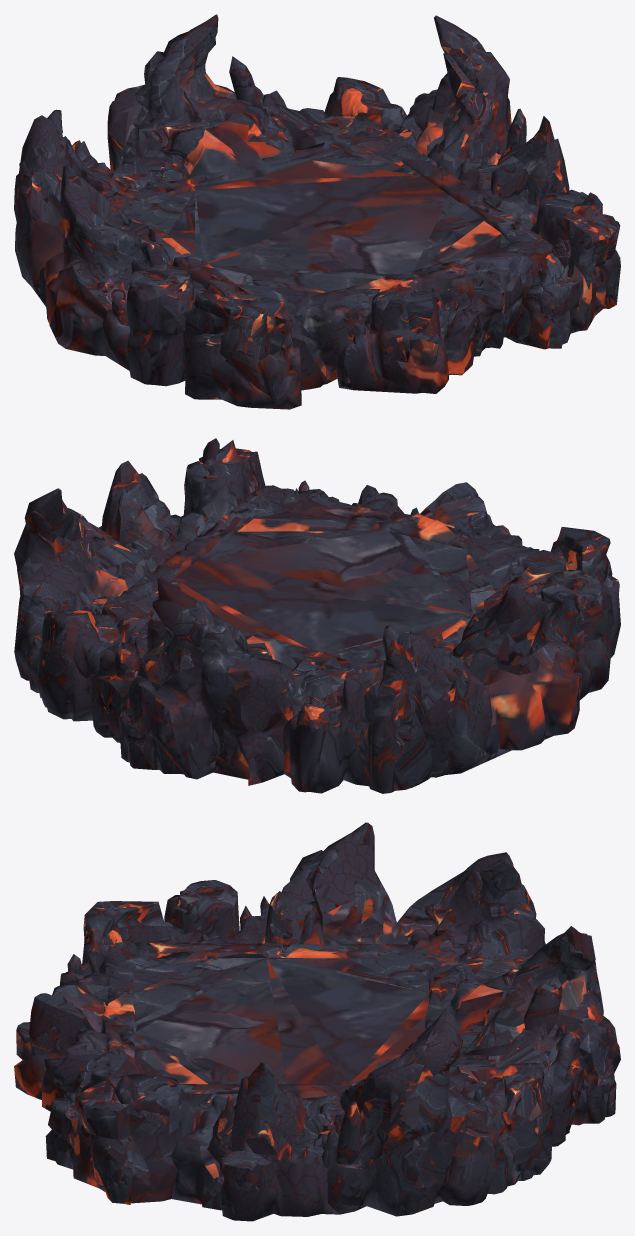
File: map01.fbx
3 renders of one model, top to bottom at view 1: azimuth 30°, elevation 25°; view 2: azimuth 150°, elevation 25°; view 3: azimuth 270°, elevation 25°, orthographic. The views are drawn at different scales.
Visible parts, largest first — view 1: Mesh_0; view 2: Mesh_0; view 3: Mesh_0.
Boxes of the visible parts, x1,y1,x2,y2 form: Mesh_0: [14, 14, 620, 409]; Mesh_0: [14, 438, 620, 793]; Mesh_0: [14, 822, 620, 1221].
Bounding box in the file's own units: 12.14 × 4.08 × 12.11.
